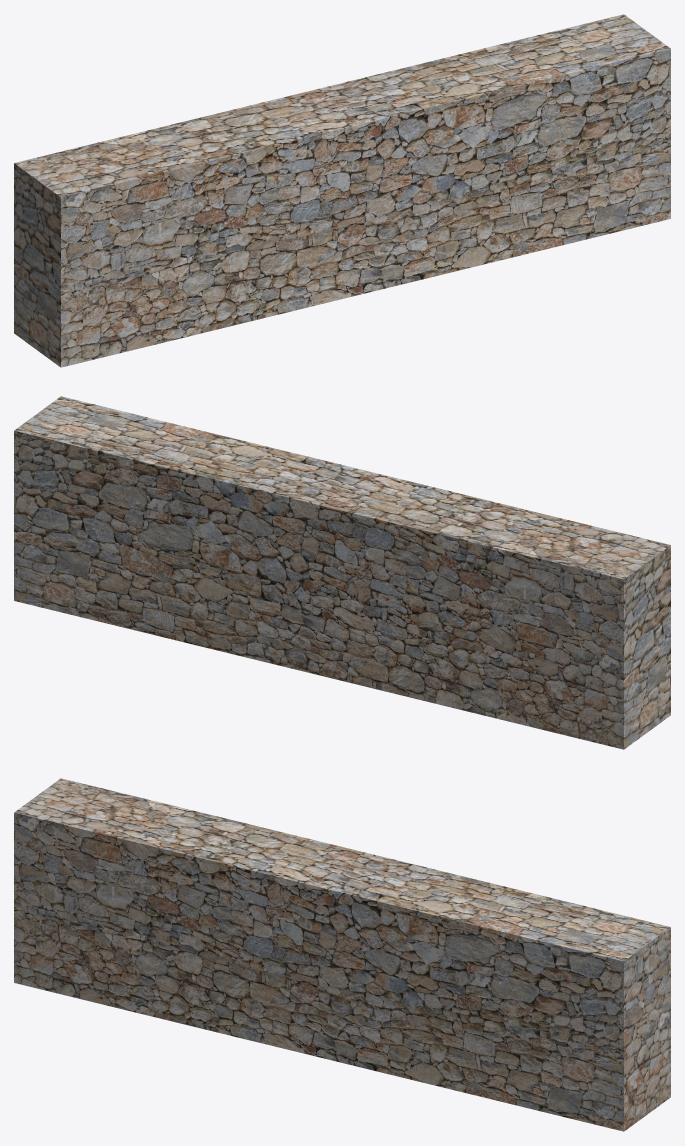
Rendered from wall.dae.
The picture shows the model from 3 angles, top to bottom: view 1: azimuth 30°, elevation 25°; view 2: azimuth 150°, elevation 25°; view 3: azimuth 330°, elevation 25°; orthographic projection.
Parts seen in each view (by area): view 1: Cube; view 2: Cube; view 3: Cube.
Part boxes in pixels (box(x1,y1,x2,y2)): Cube: box(14, 14, 670, 367); Cube: box(14, 396, 670, 749); Cube: box(14, 778, 670, 1131).
Bounding box in the file's own units: 3 × 0.4 × 0.8.
Materials: 1 (1 with a texture image).
